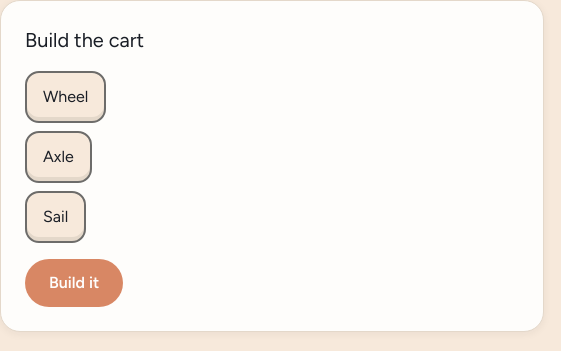
BuildInteraction › keeps submit disabled until at least one piece is selected
The image size is (561, 351).
Expected: the button "Build it" is disabled, [25,259,123,307]
Click the button "Wheel" at (66, 97), box [25,71,106,123]
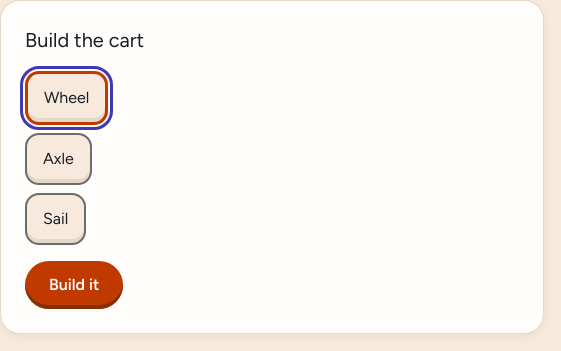
Result: the button "Build it" is enabled at [25,261,123,309]
